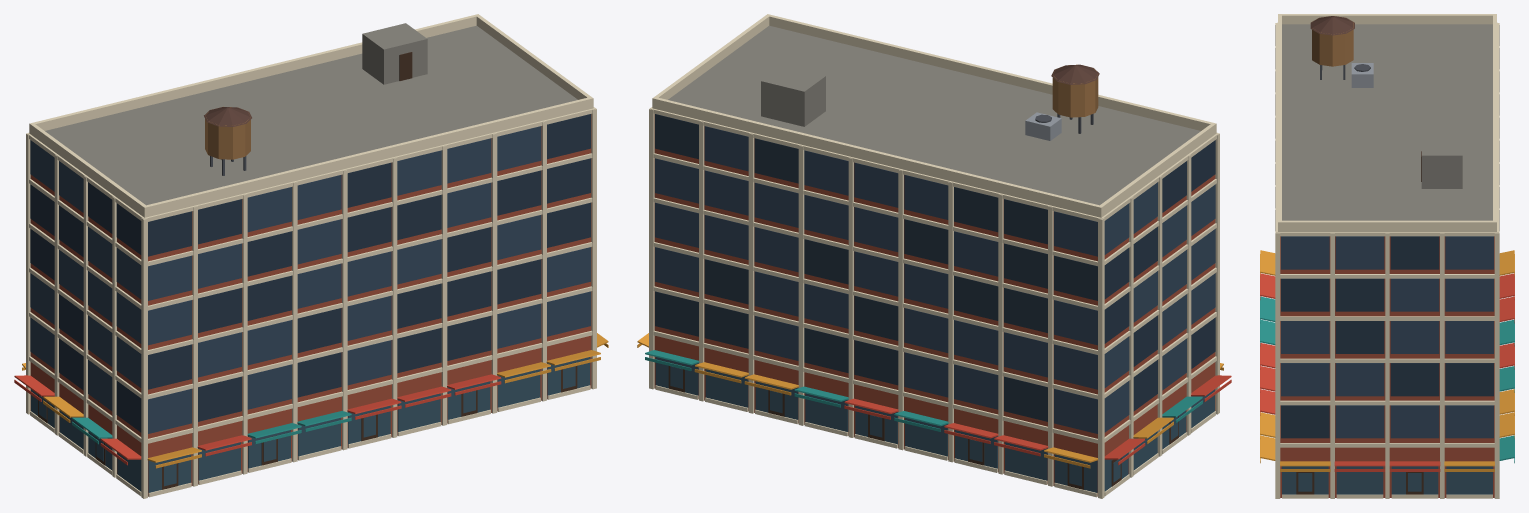
The picture shows the model from 3 angles, left to right: view 1: azimuth 30°, elevation 25°; view 2: azimuth 150°, elevation 25°; view 3: azimuth 270°, elevation 25°; orthographic projection. The views are drawn at different scales.
Visible parts, largest first — view 1: off_f; view 2: off_f; view 3: off_f.
Part boxes in pixels (left/top/right/bottom): off_f: left=14, top=14, right=608, bottom=498; off_f: left=637, top=14, right=1231, bottom=498; off_f: left=1260, top=14, right=1514, bottom=498.
Size of what is drawn, in the model's own units: 38.61 by 26.15 by 18.61.
